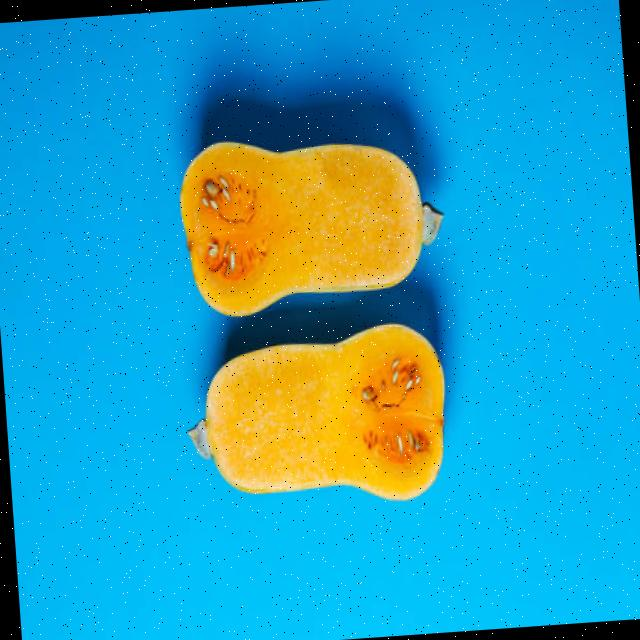pumpkin: (180, 141, 442, 315), (189, 323, 442, 498)
